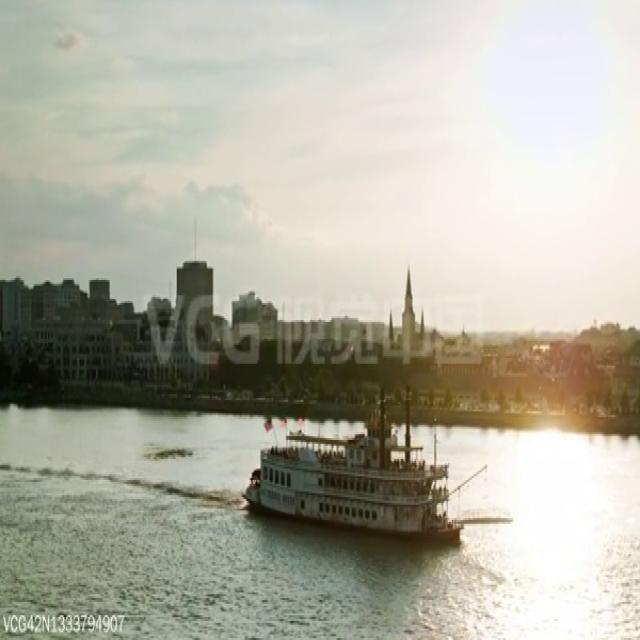passenger ship: (254, 409, 463, 542)
